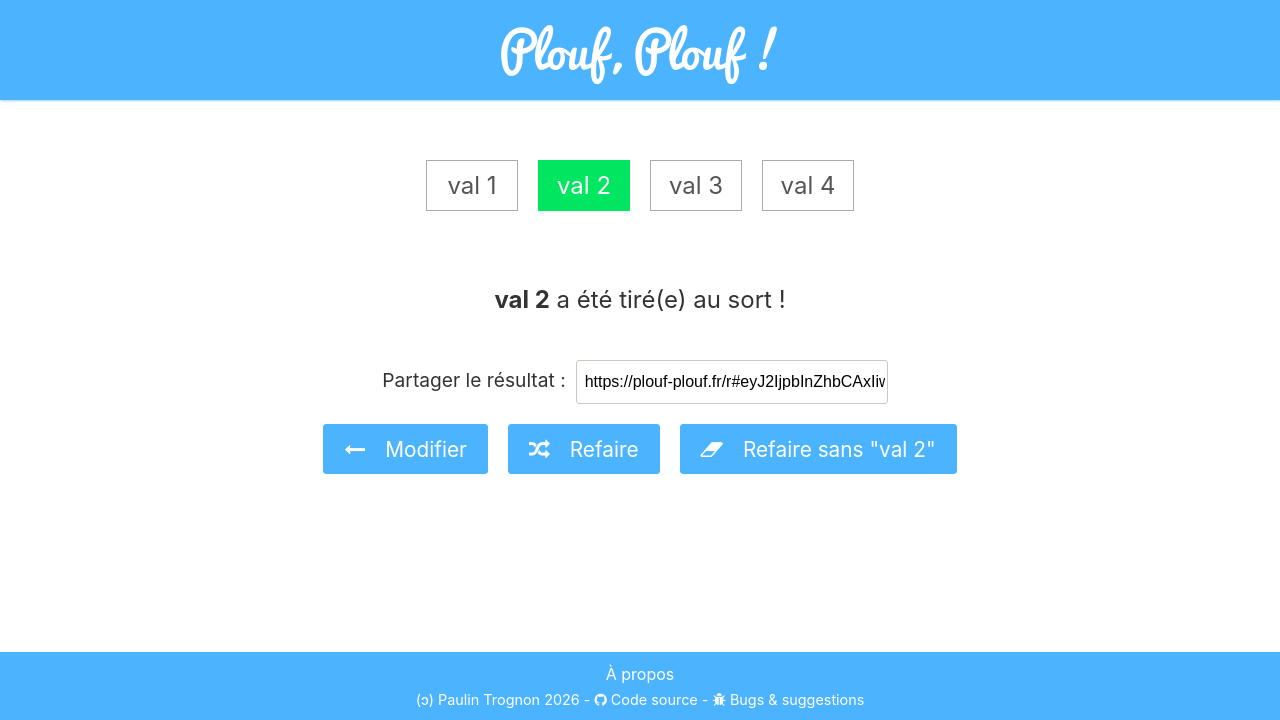
Test: Redo without selected value › should redo after having removed the selected value
Check: the number of elements with test id "Value" is 4, box [426,160,518,211]; [538,160,630,211]; [650,160,742,211]; [762,160,854,211]
Check: the text "val 2" next to "val 3" is shown, box [557,171,611,200]
Click the button with test id "ActionButtons_restartWithoutSelectedValueButton" at (819, 449), box [680,424,957,474]
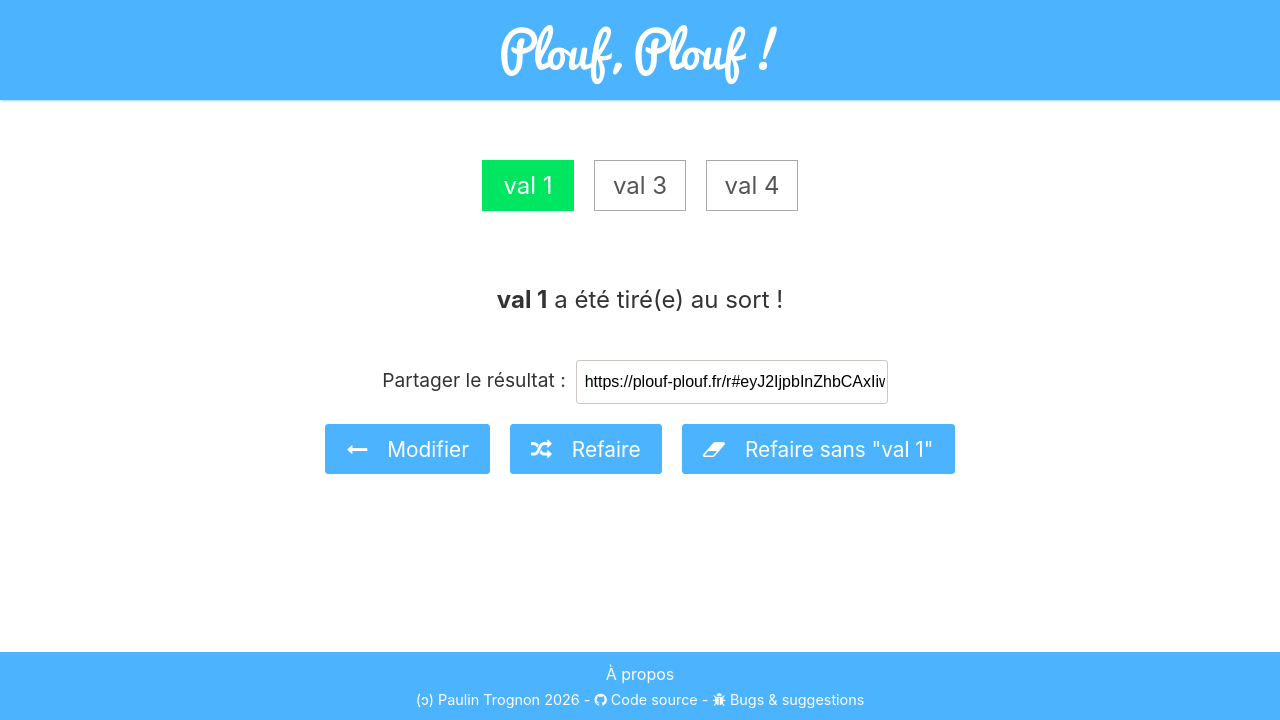
Check: the number of elements with test id "Value" is 3, box [482,160,574,211]; [594,160,686,211]; [706,160,798,211]
Check: the text "val 2" is gone
Click the button with test id "ActionButtons_restartWithoutSelectedValueButton" at (819, 449), box [682,424,955,474]
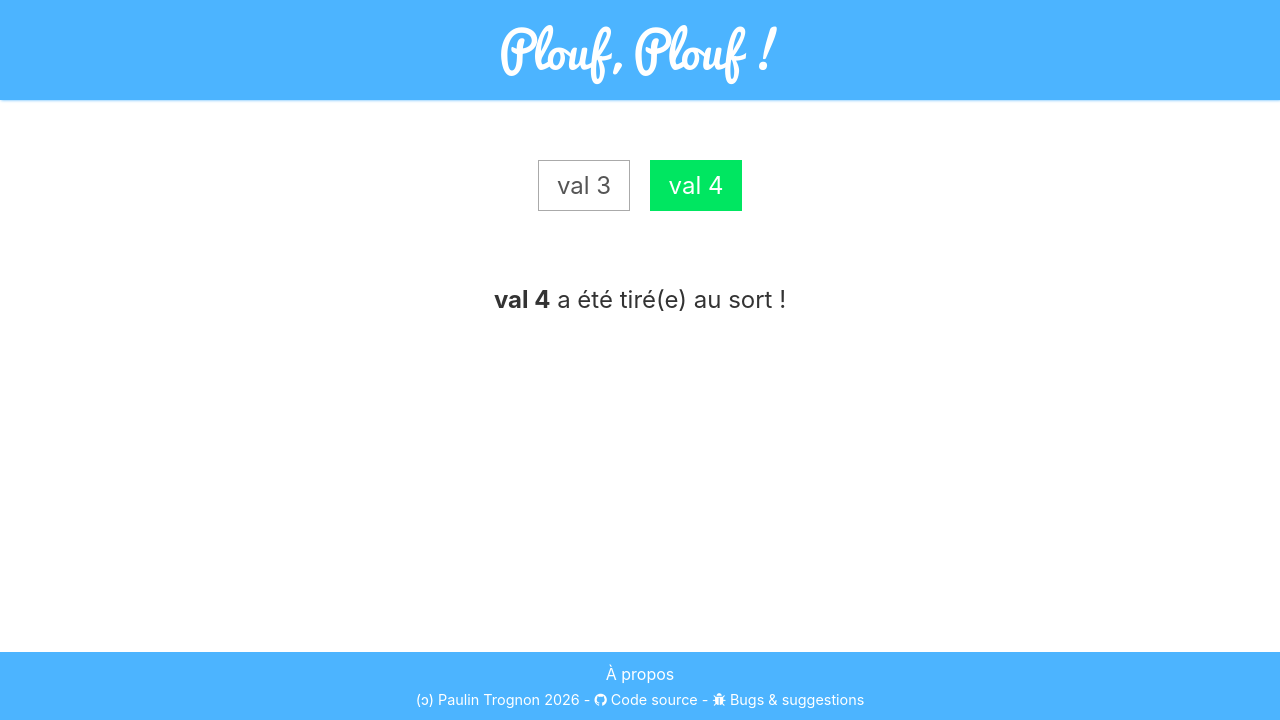
Check: the text with test id "ResultPhrase_value" is shown, box [494,285,551,314]
Check: the number of elements with test id "Value" is 2, box [538,160,630,211]; [650,160,742,211]
Check: the button with test id "ActionButtons_restartWithoutSelectedValueButton" is gone
